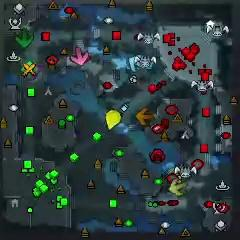Other: (20, 61, 39, 81)
p4: (106, 110, 121, 130)
x1: (70, 46, 90, 67)
x2: (170, 178, 187, 197)
x3: (129, 54, 143, 72)
x4: (15, 28, 35, 48)
x5: (136, 108, 153, 125)
